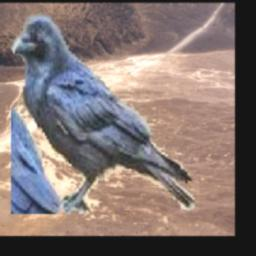Crow: (12, 14, 200, 215)
